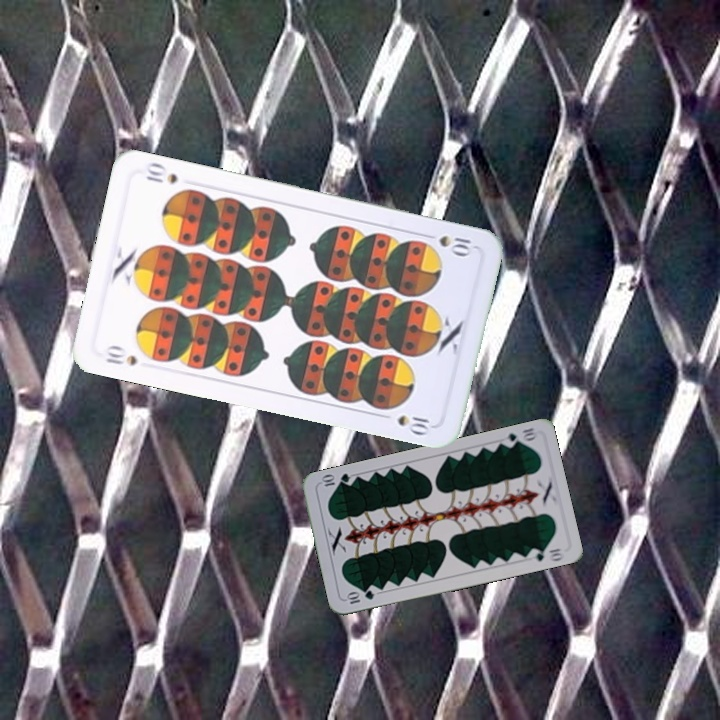G10: (498, 424, 538, 450), (342, 586, 377, 607)
S10: (419, 229, 478, 258), (101, 341, 140, 369)
